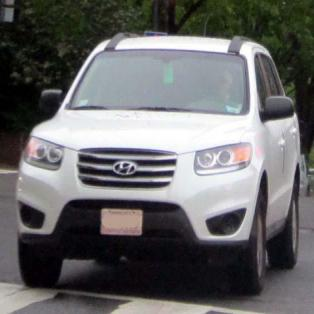Auto: (9, 17, 310, 298)
